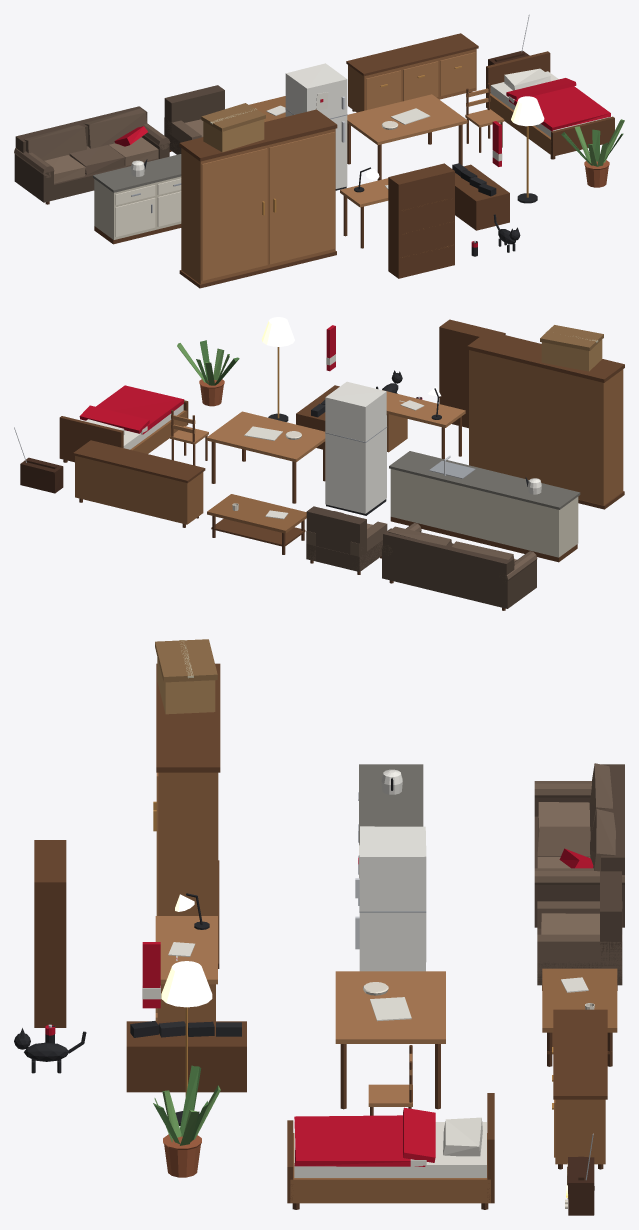
Rendered from home.glb.
The picture shows the model from 3 angles, top to bottom: view 1: azimuth 30°, elevation 25°; view 2: azimuth 150°, elevation 25°; view 3: azimuth 270°, elevation 25°; orthographic projection. The views are drawn at different scales.
Parts seen in each view (by area): view 1: wardrobe, sofa, bed, sideboard, bookshelf, counter, table, fridge, shoes, armchair, plant, desk (+4 smaller); view 2: wardrobe, counter, sofa, sideboard, fridge, bed, table, armchair, table_low, bookshelf, desk, plant (+4 smaller); view 3: bed, wardrobe, sofa, fridge, shoes, table, sideboard, armchair, bookshelf, desk, counter, table_low (+5 smaller).
Boxes of the visible parts, x1,y1,x2,y2 form: wardrobe: (179,103,337,288); sofa: (14,106,170,204); bed: (486,51,614,159); sideboard: (346,33,478,112); bookshelf: (388,163,454,278); counter: (93,154,181,244); table: (347,94,467,180); fridge: (285,63,347,190); shoes: (452,121,509,230); armchair: (164,85,224,154); plant: (561,119,624,187); desk: (340,167,388,248); wardrobe: (467,325,624,509); counter: (389,451,580,562); sofa: (381,523,537,610); sideboard: (73,440,205,527); fridge: (325,381,386,515); bed: (59,385,188,462); table: (206,411,325,503); armchair: (306,506,387,574); table_low: (207,494,306,554); bookshelf: (439,319,505,428); desk: (382,386,465,459); plant: (177,340,239,406); bed: (287,1093,494,1209); wardrobe: (153,639,220,968); sofa: (534,763,624,927); fridge: (355,826,426,971); shoes: (126,942,246,1092); table: (335,971,445,1109); sideboard: (552,1009,607,1169); armchair: (537,871,622,990); bookshelf: (34,840,66,1027); desk: (155,893,217,1021); counter: (358,764,423,905); table_low: (542,968,617,1066).
Bounding box in the file's own units: 8.99 × 2.64 × 6.09.
